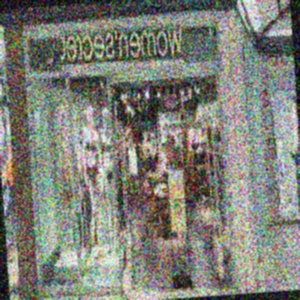women_secret: (161, 10, 215, 30)
